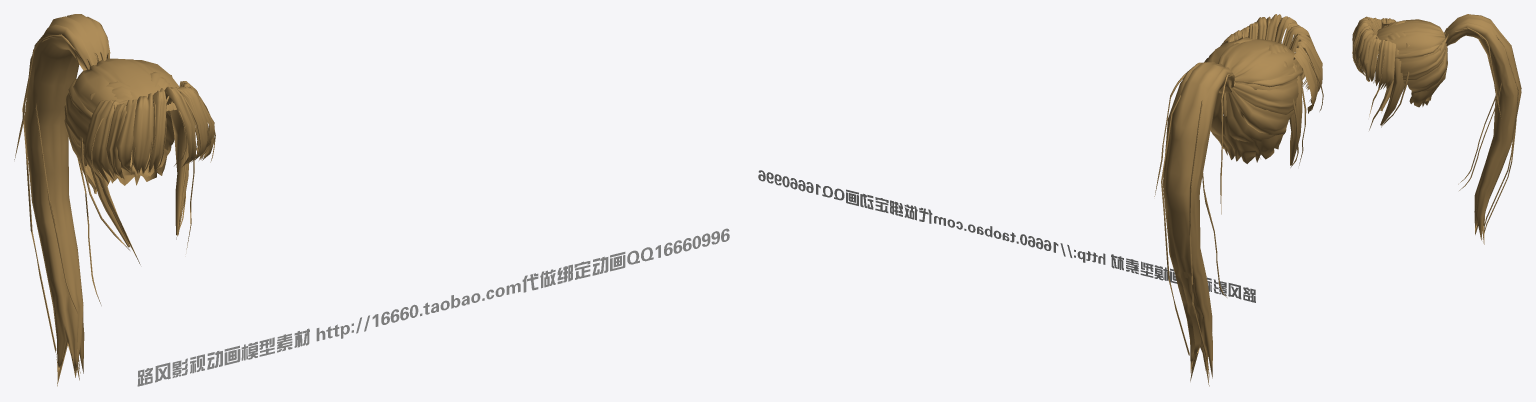
3 renders of one model, left to right at view 1: azimuth 30°, elevation 25°; view 2: azimuth 150°, elevation 25°; view 3: azimuth 270°, elevation 25°, orthographic. The views are drawn at different scales.
Parts seen in each view (by area): view 1: u_twin:null_13; view 2: u_twin:null_13; view 3: u_twin:null_13.
Boxes of the visible parts, x1=… form: u_twin:null_13: x1=14, y1=14, x2=215, y2=386; u_twin:null_13: x1=1154, y1=14, x2=1323, y2=386; u_twin:null_13: x1=1352, y1=14, x2=1521, y2=244.
Size of the model in its own units: 124 by 67.65 by 45.69.
